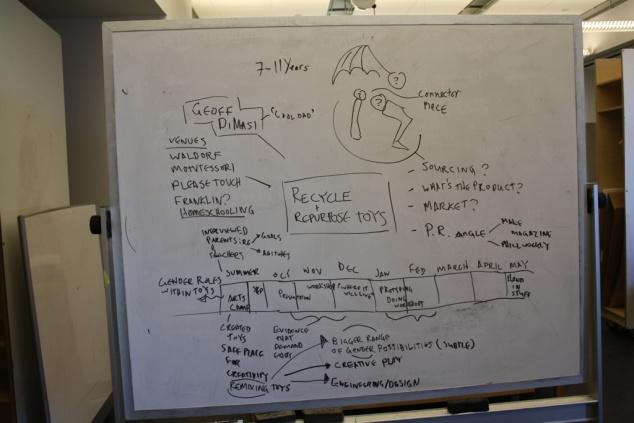Whiteboard: (99, 12, 591, 422)
